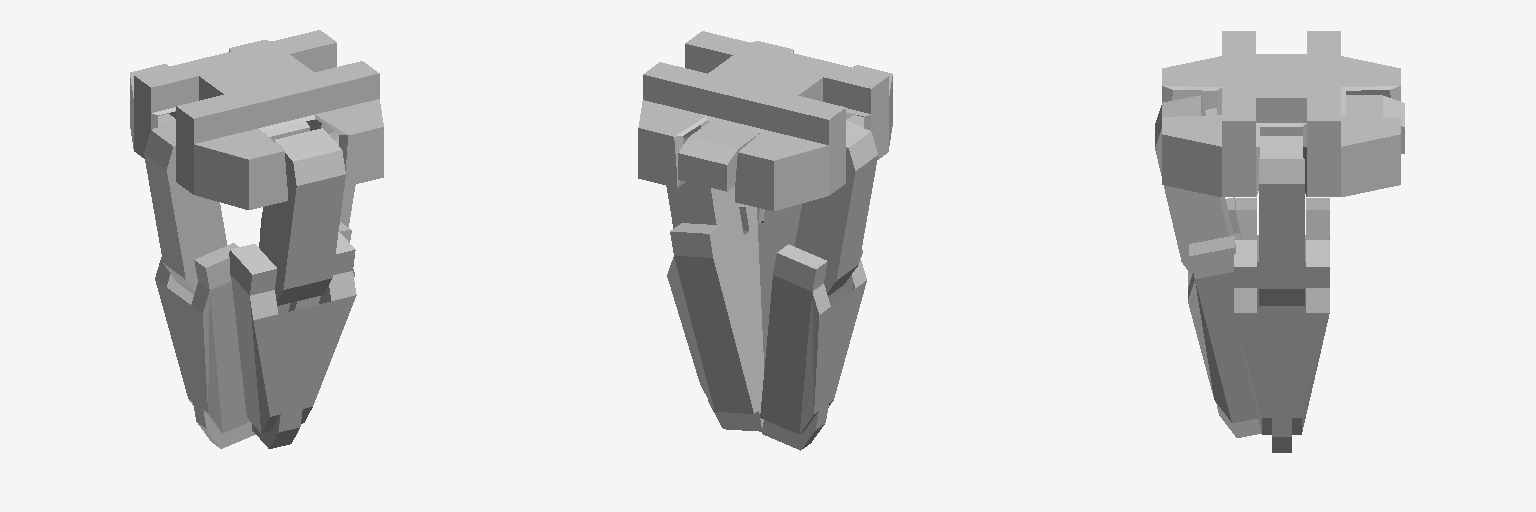
Rendered from maghook.obj.
The picture shows the model from 3 angles: view 1: azimuth 30°, elevation 25°; view 2: azimuth 150°, elevation 25°; view 3: azimuth 270°, elevation 25°; orthographic projection.
Parts seen in each view (by area): view 1: Box010, Object005, Object006, Object004, Object007, Object009; view 2: Box010, Object008, Object006, Object007, Object009, Object005, Object004; view 3: Box010, Object008, Object005, Object009, Object004, Object006.
Part boxes in pixels (bbox=[...]): Box010: bbox=[130, 30, 383, 209]; Object005: bbox=[229, 231, 356, 448]; Object006: bbox=[155, 243, 255, 448]; Object004: bbox=[260, 128, 345, 305]; Object007: bbox=[144, 119, 226, 294]; Object009: bbox=[306, 119, 355, 226]; Box010: bbox=[638, 31, 892, 211]; Object008: bbox=[667, 203, 763, 431]; Object006: bbox=[760, 244, 866, 450]; Object007: bbox=[795, 121, 877, 295]; Object009: bbox=[666, 121, 743, 248]; Object005: bbox=[743, 208, 862, 368]; Object004: bbox=[763, 204, 801, 231]; Box010: bbox=[1162, 31, 1404, 196]; Object008: bbox=[1234, 240, 1329, 452]; Object005: bbox=[1188, 197, 1261, 437]; Object009: bbox=[1259, 136, 1304, 305]; Object004: bbox=[1155, 95, 1233, 274]; Object006: bbox=[1234, 198, 1329, 261].
Size of the model in its own units: 44.18 by 76.39 by 47.9.